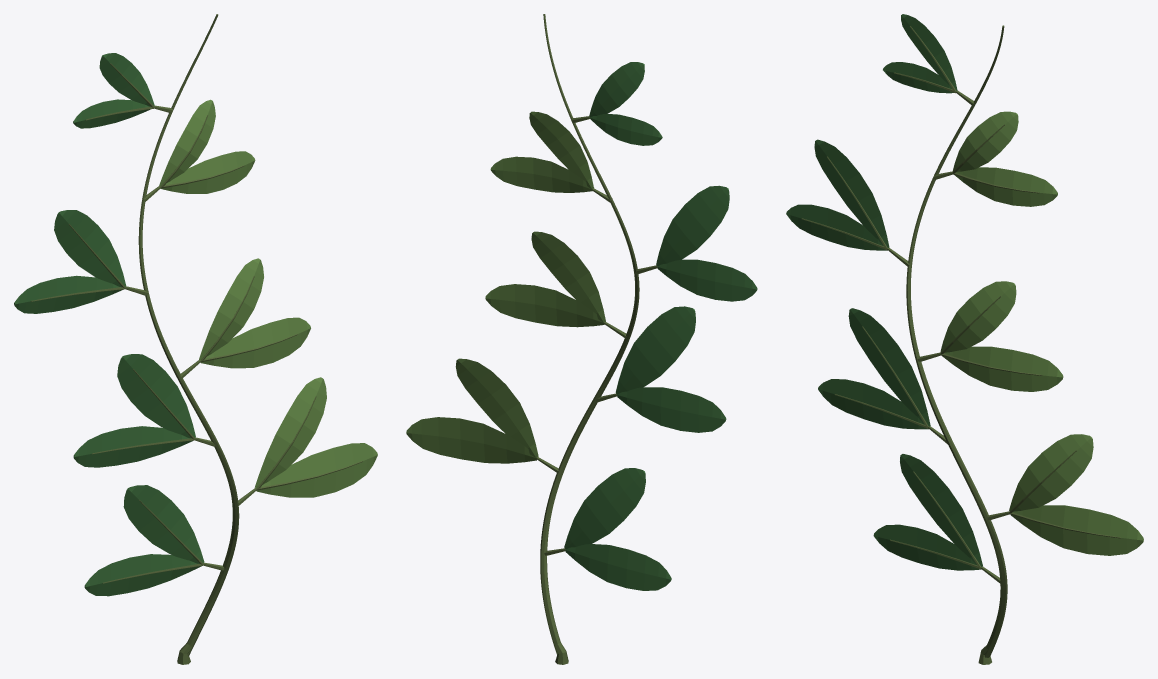
3 renders of one model, left to right at view 1: azimuth 30°, elevation 25°; view 2: azimuth 150°, elevation 25°; view 3: azimuth 330°, elevation 25°, orthographic.
Parts seen in each view (by area): view 1: broad-rounded-lobed-blades-deep, broad-rounded-lobed-blades-sage, rachis-petioles-midribs-basal-attachment; view 2: broad-rounded-lobed-blades-deep, broad-rounded-lobed-blades-sage, rachis-petioles-midribs-basal-attachment; view 3: broad-rounded-lobed-blades-deep, broad-rounded-lobed-blades-sage, rachis-petioles-midribs-basal-attachment.
Boxes of the visible parts, box(x1,y1,x2,y2) form: broad-rounded-lobed-blades-deep: box(14, 53, 204, 596); broad-rounded-lobed-blades-sage: box(159, 99, 377, 497); rachis-petioles-midribs-basal-attachment: box(31, 14, 362, 664); broad-rounded-lobed-blades-deep: box(564, 62, 757, 590); broad-rounded-lobed-blades-sage: box(406, 111, 605, 463); rachis-petioles-midribs-basal-attachment: box(536, 14, 657, 664); broad-rounded-lobed-blades-deep: box(786, 14, 982, 570); broad-rounded-lobed-blades-sage: box(940, 111, 1143, 555); rachis-petioles-midribs-basal-attachment: box(801, 25, 1120, 664).
Size of the model in its own units: 0.3485 by 0.5993 by 0.0726.
